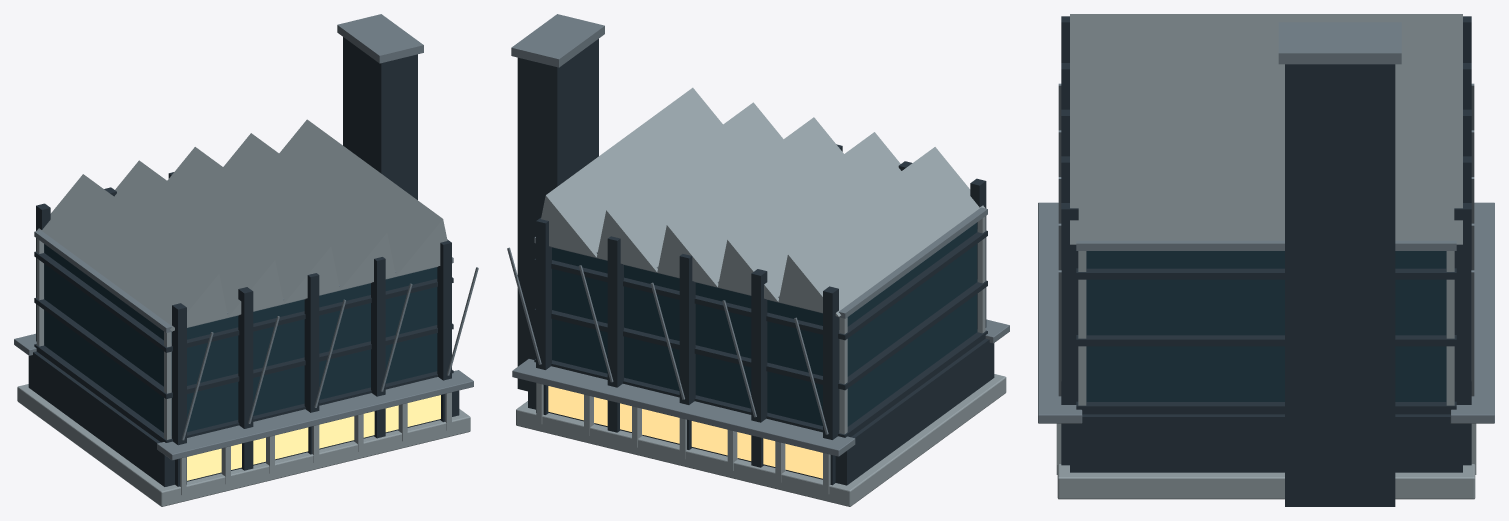
The model's file is vrx_city_works_a_LOD0.fbx.
3 views of the same model, side by side, from view 1: azimuth 30°, elevation 25°; view 2: azimuth 150°, elevation 25°; view 3: azimuth 270°, elevation 25° (orthographic). The views are drawn at different scales.
Parts seen in each view (by area): view 1: vrx_city_works_a_LOD0; view 2: vrx_city_works_a_LOD0; view 3: vrx_city_works_a_LOD0.
Boxes of the visible parts, x1=… form: vrx_city_works_a_LOD0: x1=14, y1=14, x2=478, y2=506; vrx_city_works_a_LOD0: x1=507, y1=14, x2=1009, y2=506; vrx_city_works_a_LOD0: x1=1038, y1=14, x2=1494, y2=506.
Bounding box in the file's own units: 46 × 42 × 37.2.
